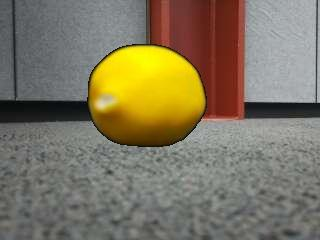lemon: (89, 47, 205, 147)
